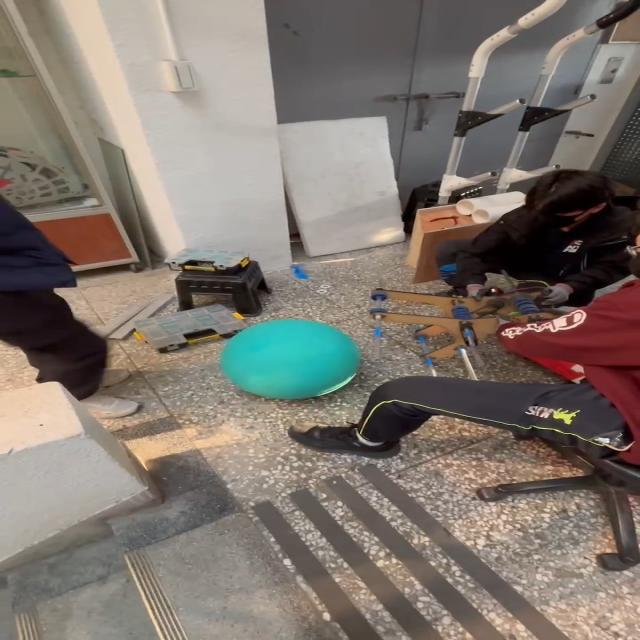ALGAE: (217, 318, 362, 400)
